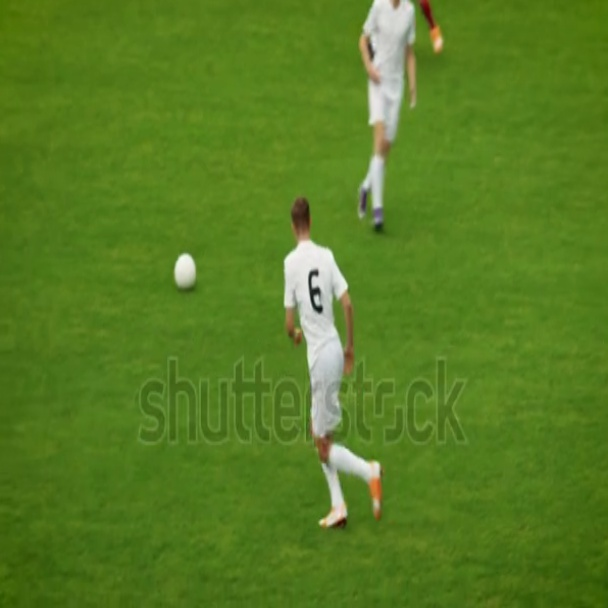ball: (177, 252, 194, 281)
